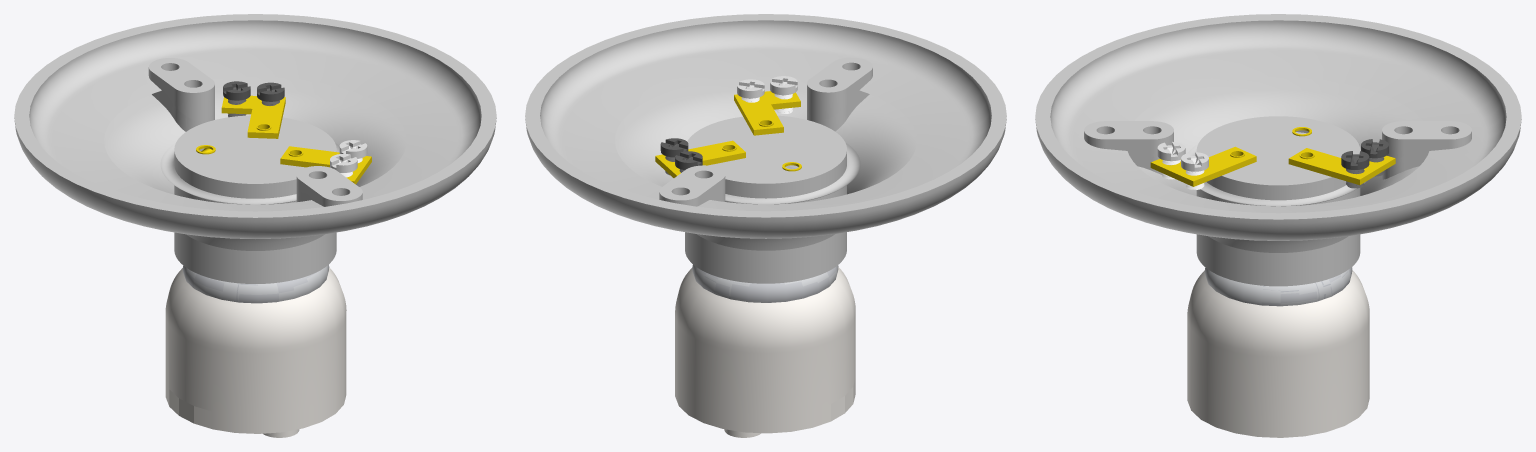
Rendered from base_foco.glb.
3 views of the same model, side by side, from view 1: azimuth 30°, elevation 25°; view 2: azimuth 150°, elevation 25°; view 3: azimuth 270°, elevation 25° (orthographic).
Parts seen in each view (by area): view 1: Material2.005, Material2.001, Material2, Material2.002, Material2.004, Material3.004; view 2: Material2.005, Material2.001, Material2, Material2.002, Material3.004, Material2.004; view 3: Material2.005, Material2.001, Material2, Material2.002, Material3.004, Material2.004.
Part boxes in pixels (left/top/right/bottom): Material2.005: left=14, top=14, right=496, bottom=283; Material2.001: left=165, top=268, right=346, bottom=437; Material2: left=196, top=95, right=371, bottom=184; Material2.002: left=183, top=264, right=329, bottom=303; Material2.004: left=223, top=81, right=284, bottom=117; Material3.004: left=330, top=140, right=367, bottom=177; Material2.005: left=525, top=14, right=1006, bottom=283; Material2.001: left=675, top=267, right=855, bottom=437; Material2: left=655, top=91, right=801, bottom=177; Material2.002: left=692, top=165, right=838, bottom=302; Material3.004: left=737, top=76, right=797, bottom=113; Material2.004: left=660, top=138, right=702, bottom=175; Material2.005: left=1035, top=14, right=1521, bottom=286; Material2.001: left=1187, top=270, right=1369, bottom=437; Material2: left=1150, top=127, right=1395, bottom=186; Material2.002: left=1204, top=267, right=1352, bottom=306; Material3.004: left=1157, top=141, right=1208, bottom=189; Material2.004: left=1341, top=139, right=1388, bottom=188.
Size of the model in its own units: 1.06 by 0.7229 by 1.06.
9 materials, 1 textured.
